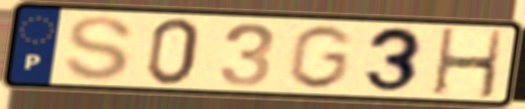0: (142, 15, 204, 87)
3: (363, 24, 425, 96), (218, 21, 277, 88)
G: (284, 23, 357, 92)
H: (430, 27, 506, 101)
S: (61, 14, 138, 83)
